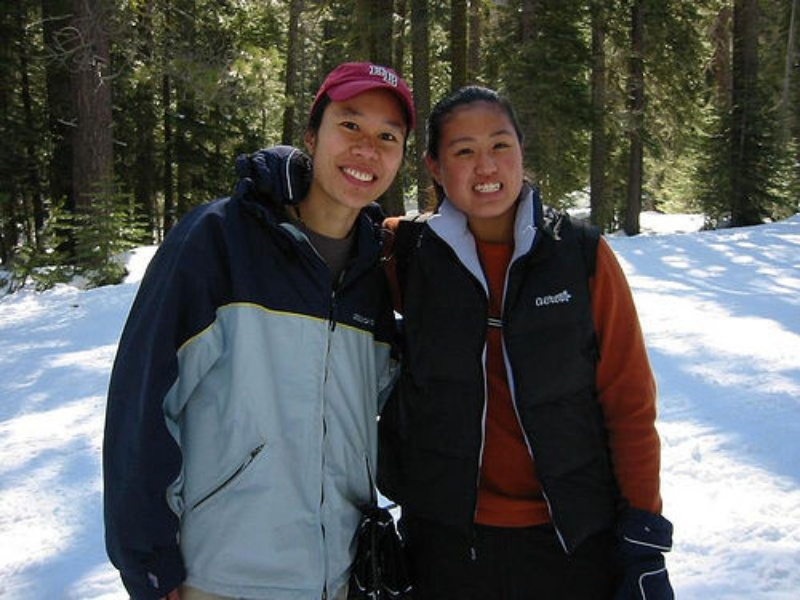person: (102, 60, 417, 600), (388, 84, 676, 600)
